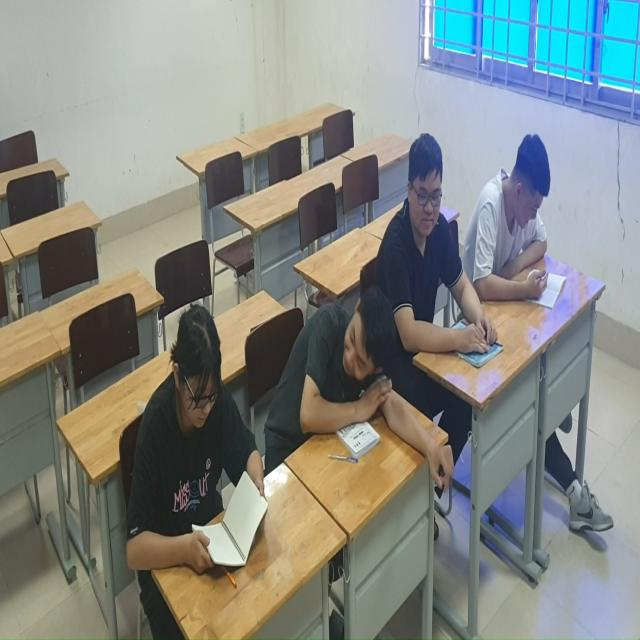read: (127, 302, 274, 590), (383, 129, 505, 374), (474, 127, 571, 318)
sleep: (272, 289, 456, 497)
